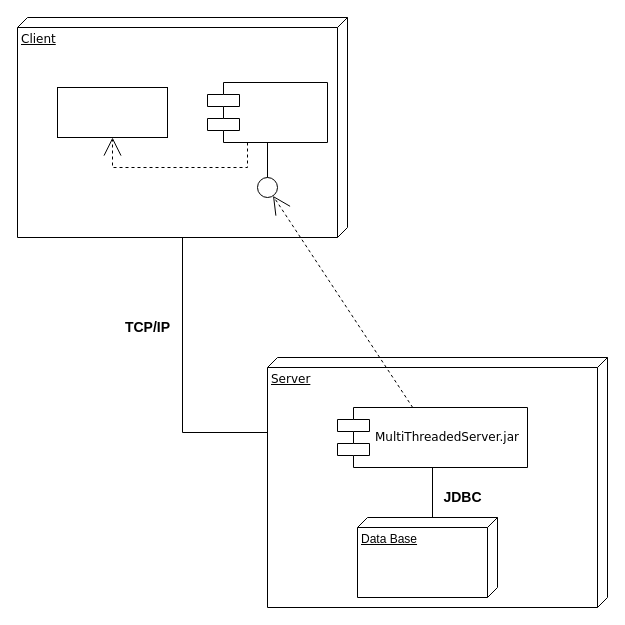
The diagram is 625 pixels wide and 625 high, and some of its shapes have lost their labels. The centre of each missing label's shape, as x and y in pixels:
"Client.jar" belongs at (x=267, y=112).
"«interface» JDK8" belongs at (x=112, y=112).
